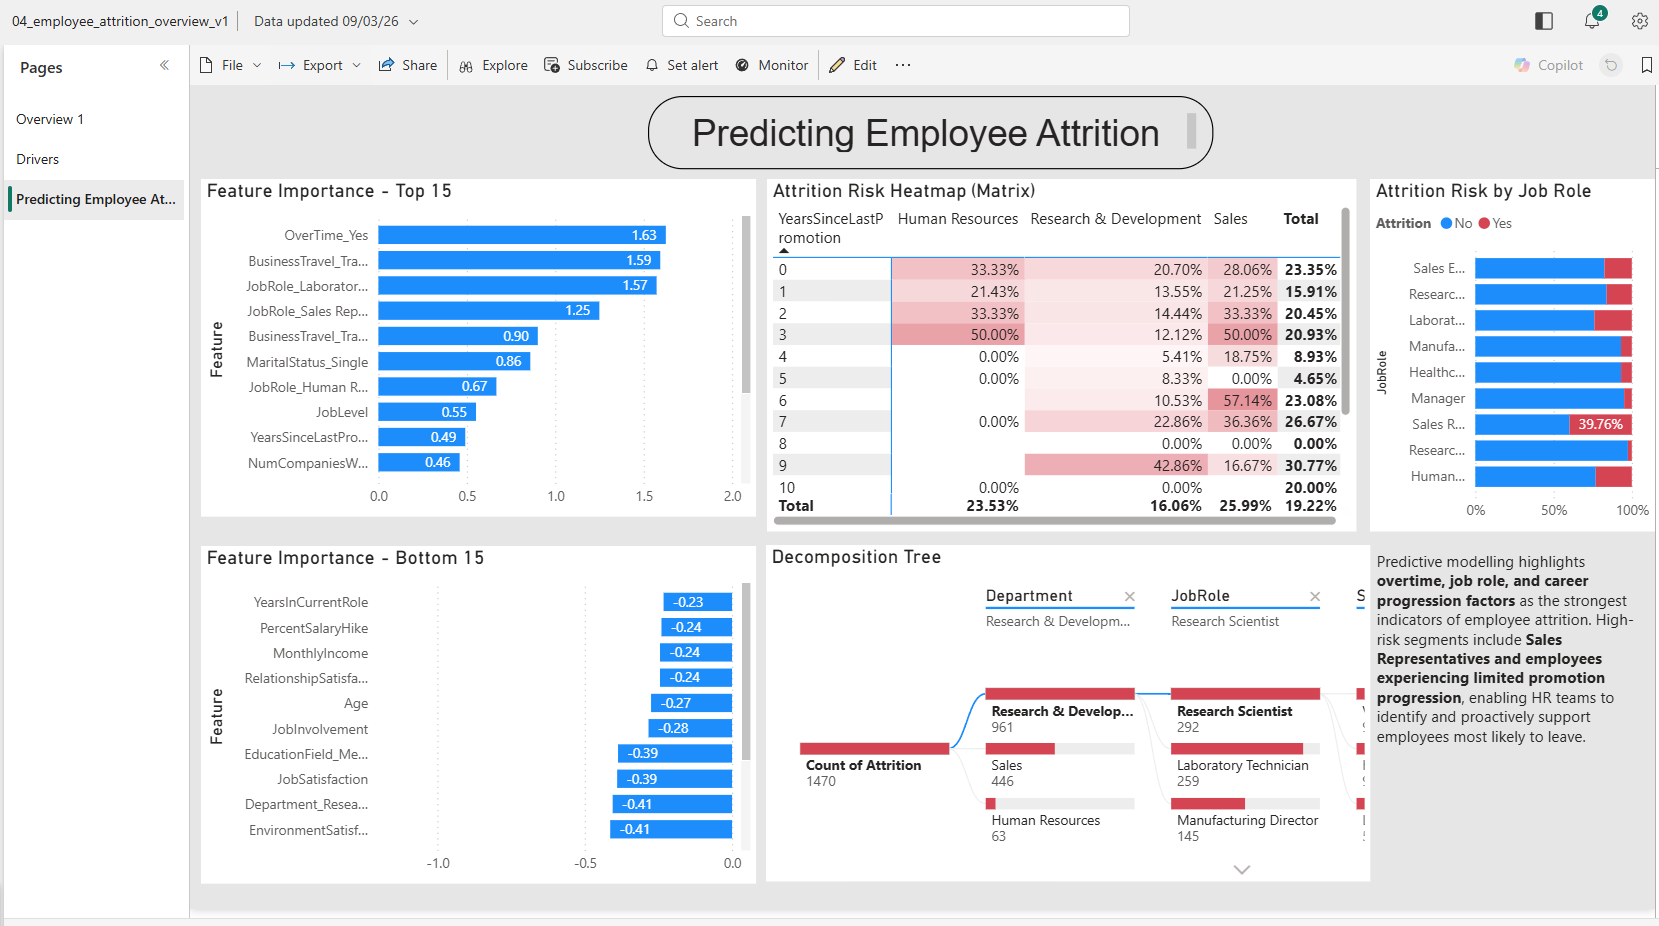

Layout of this report page (visuals, bound fields, positions):
{"tool":"powerbi","page":{"name":"Predicting Employee Attrition","canvas":[1280,720],"ordinal":2},"visuals":[{"type":"textbox","box":[400,10,494.3,64.3],"z":0},{"type":"clusteredBarChart","title":"Feature Importance - Top 15","fields":{"Y":["Sum(logistic_regression_coefficients.Coefficient)"],"Category":["logistic_regression_coefficients.Feature"]},"box":[10,82.5,485,295],"z":1000},{"type":"clusteredBarChart","title":"Feature Importance - Bottom 15","fields":{"Y":["Sum(logistic_regression_coefficients.Coefficient)"],"Category":["logistic_regression_coefficients.Feature"]},"box":[10,402.5,485,295],"z":2000},{"type":"decompositionTreeVisual","title":"Decomposition Tree","fields":{"Analyze":["CountNonNull(attrition_clean_v1.Attrition)"],"ExplainBy":["attrition_clean_v1.Department","attrition_clean_v1.JobRole","DimJobSatisfaction.Satisfaction_RATING","attrition_clean_v1.OverTime"]},"box":[503.5,402.1,527.6,294.3],"z":3000},{"type":"pivotTable","title":"Attrition Risk Heatmap (Matrix)","fields":{"Values":["attrition_clean_v1.Employee Count % difference from No 2"],"Columns":["attrition_clean_v1.Department"],"Rows":["attrition_clean_v1.YearsSinceLastPromotion"]},"box":[503.8,82.5,515,307.5],"z":4000},{"type":"hundredPercentStackedBarChart","title":"Attrition Risk by Job Role","fields":{"Category":["attrition_clean_v1.JobRole"],"Y":["attrition_clean_v1.Employee Count"],"Series":["attrition_clean_v1.Attrition"]},"box":[1031.2,82.5,248.8,307.5],"z":5000},{"type":"textbox","box":[1032,402,248,294],"z":6000}]}

Visuals, with their boxes on the page's 1280x720 design canvas (x1, y1, x2, y2). These are canvas units, not pixel positions in the 1659x926 screenshot, which may show the page scaled, cropped or inside an application window:
textbox: (400,10,894,74)
"Feature Importance - Top 15" clusteredBarChart: (10,82,495,378)
"Feature Importance - Bottom 15" clusteredBarChart: (10,402,495,698)
"Decomposition Tree" decompositionTreeVisual: (504,402,1031,696)
"Attrition Risk Heatmap (Matrix)" pivotTable: (504,82,1019,390)
"Attrition Risk by Job Role" hundredPercentStackedBarChart: (1031,82,1280,390)
textbox: (1032,402,1280,696)
